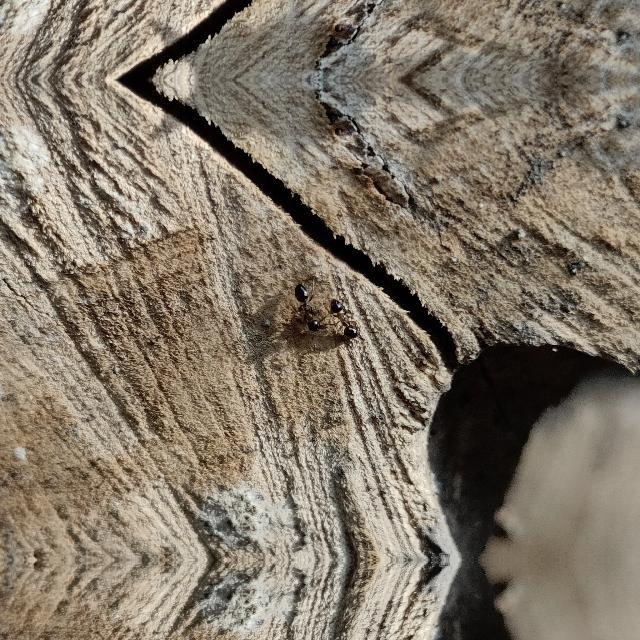Dolichoderus: (282, 274, 326, 334), (327, 294, 371, 344)
